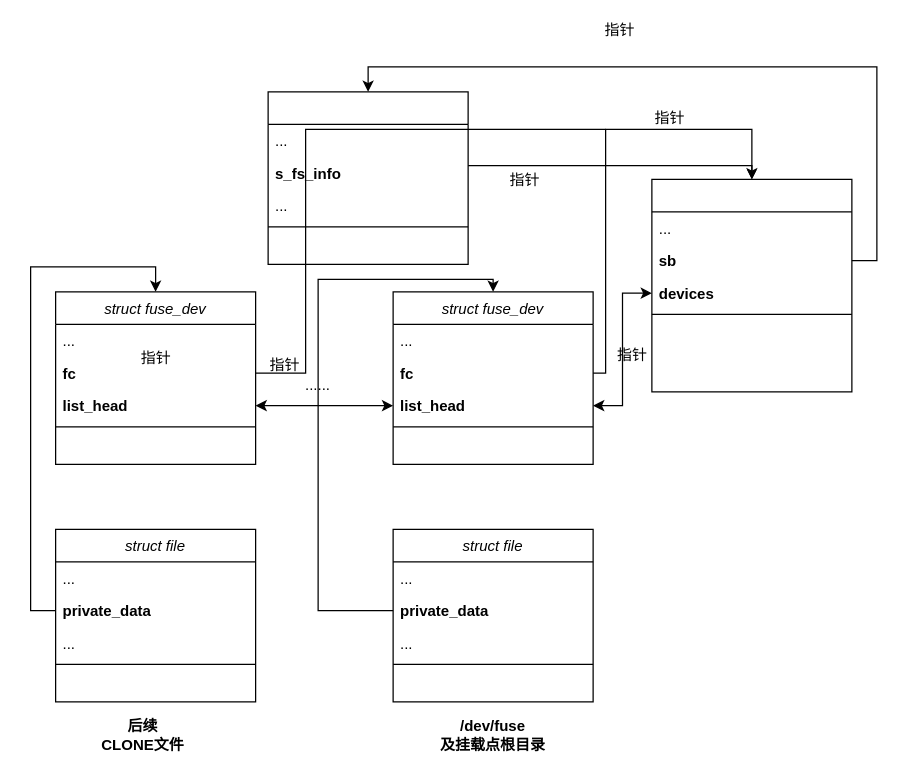
Some shapes in this 909 by 776 pixel diagram are drawn without their labels. The box of each missing label's shape, as (x1, y1, x2, y2) in pixels:
struct fuse_conn: (651, 178, 852, 392)
struct super_block: (267, 91, 468, 264)
